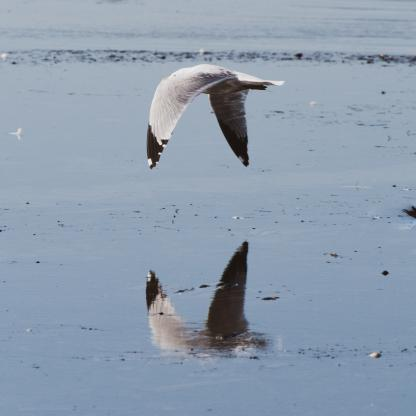bird: (148, 66, 285, 170)
